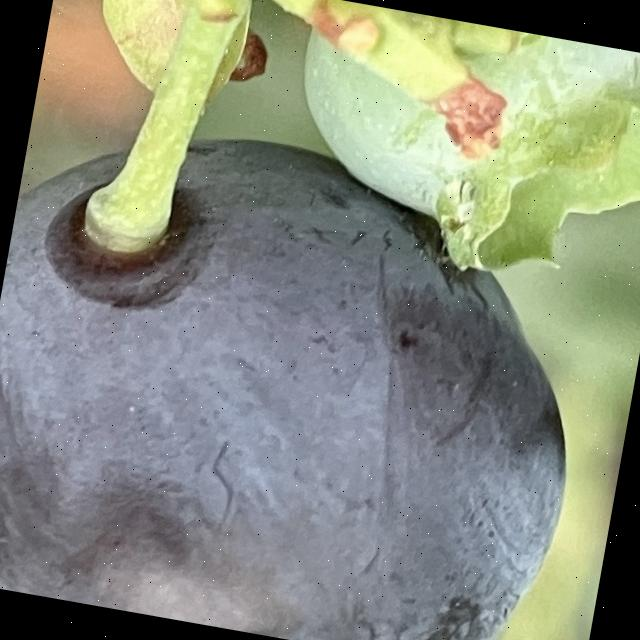Blueberries: (0, 100, 617, 640)
